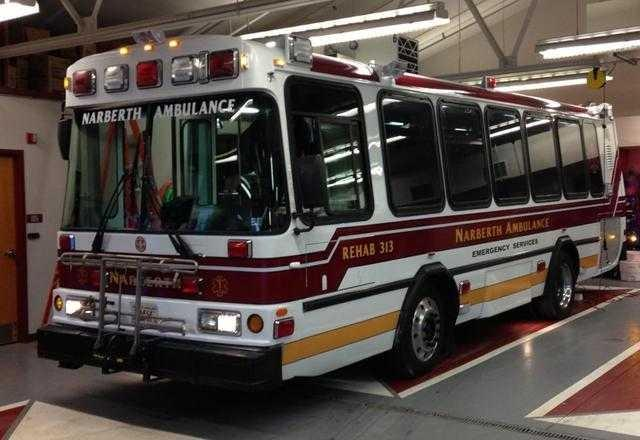car: (35, 31, 629, 393)
